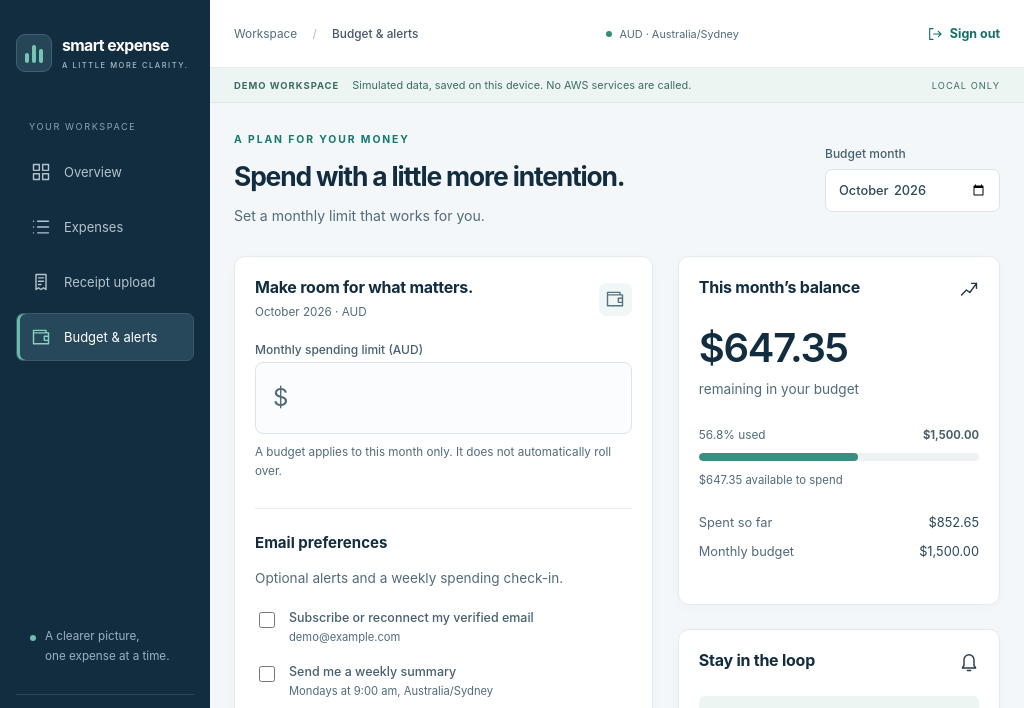
Test case: budget and receipt pages › changes month without carrying over the previous limit
Check: the field labelled "Monthly spending limit (AUD)" is shown, box [288,363,631,433]
Replace the text in the field labelled "Budget month" with "2020-01" at (912, 191), box [825,169,1000,212]
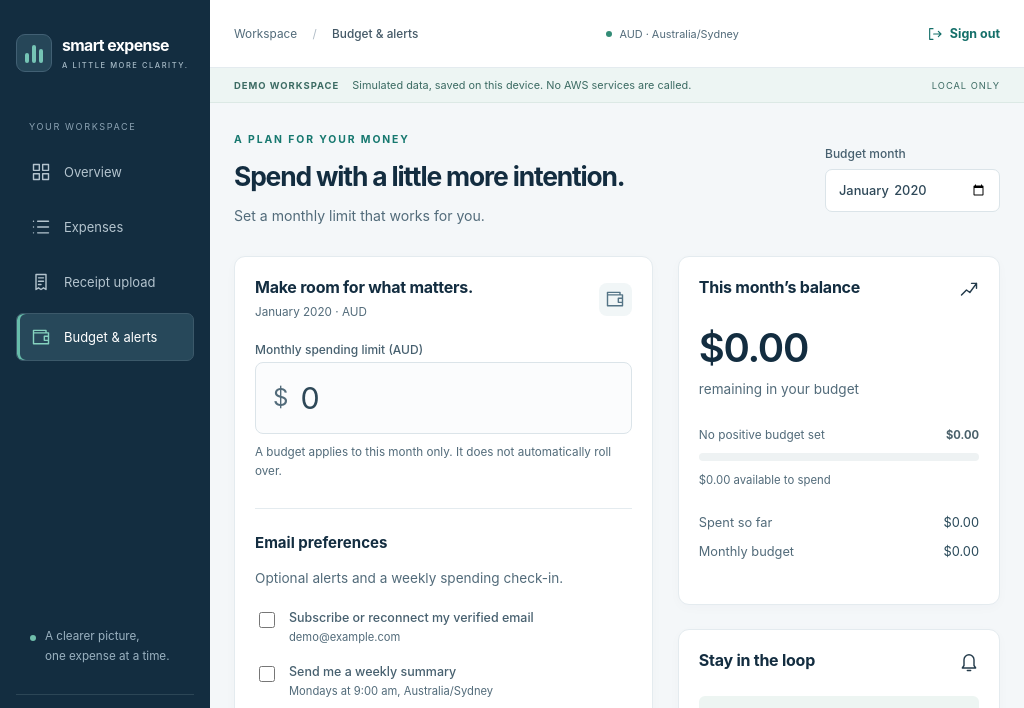
Check: the field labelled "Monthly spending limit (AUD)" holds "0", box [288,363,631,433]
